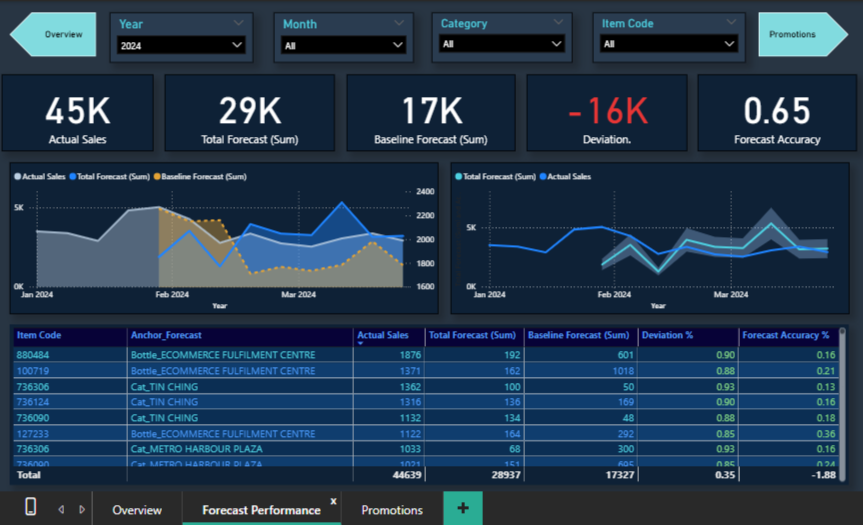

The dashboard page shown, as its layout file describes it:
{"tool":"powerbi","page":{"name":"Forecast Performance","canvas":[1280,720],"ordinal":1},"visuals":[{"type":"slicer","fields":{"Values":["Main.Anchor_Forecast"]},"box":[642.9,16,207.4,73.6],"z":0},{"type":"slicer","fields":{"Values":["Main.Item Code"]},"box":[879.8,16,224.5,73.6],"z":1000},{"type":"slicer","fields":{"Values":["Main.time_line.Variation.Date Hierarchy.Month"]},"box":[411,16,206.1,73.6],"z":2000},{"type":"card","fields":{"Values":["Main.Total Forecast (Sum)"]},"box":[251.5,108,250.3,112.9],"z":3000},{"type":"card","fields":{"Values":["Main.Baseline Forecast (Sum)"]},"box":[519,108,247.9,112.9],"z":4000},{"type":"card","fields":{"Values":["Main.Deviation (TotalForecast - Actual)"]},"box":[782.8,108,235.6,112.9],"z":5000},{"type":"card","fields":{"Values":["Main.Forecast Accuracy"]},"box":[1034.4,108,234.4,112.9],"z":6000},{"type":"tableEx","fields":{"Values":["Main.Item Code","Main.Anchor_Forecast","Main.Actual Sales","Main.Total Forecast (Sum)","Main.Baseline Forecast (Sum)","Main.Deviation %","Main.Forecast Accuracy %"]},"box":[22.9,474.3,1232.9,235.7],"z":7000},{"type":"lineChart","fields":{"Category":["Main.time_line.Variation.Date Hierarchy.Year","Main.time_line.Variation.Date Hierarchy.Quarter","Main.time_line.Variation.Date Hierarchy.Month","Main.time_line.Variation.Date Hierarchy.Day"],"Y":["Main.Total Forecast (Sum)","Main.Actual Sales"]},"box":[671.4,237.1,585.7,222.9],"z":8000},{"type":"card","fields":{"Values":["Main.Actual Sales"]},"box":[11,108,223.3,112.9],"z":9000},{"type":"areaChart","fields":{"Y":["Main.Actual Sales","Main.Total Forecast (Sum)"],"Category":["Main.time_line.Variation.Date Hierarchy.Year","Main.time_line.Variation.Date Hierarchy.Quarter","Main.time_line.Variation.Date Hierarchy.Month","Main.time_line.Variation.Date Hierarchy.Day"],"Y2":["Main.Baseline Forecast (Sum)"]},"box":[22.9,237.1,630,222.9],"z":10000},{"type":"slicer","fields":{"Values":["Main.time_line.Variation.Date Hierarchy.Year"]},"box":[170.6,16,211,73.6],"z":11000},{"type":"pageNavigator","box":[1123.9,16,132.5,65],"z":12000},{"type":"pageNavigator","box":[23.3,16,127.6,65],"z":13000}]}

Visuals, with their boxes on the page's 1280x720 design canvas (x1, y1, x2, y2). These are canvas units, not pixel positions in the 863x525 screenshot, which may show the page scaled, cropped or inside an application window:
slicer - Main.Anchor_Forecast: left=643, top=16, right=850, bottom=90
slicer - Main.Item Code: left=880, top=16, right=1104, bottom=90
slicer - Main.time_line.Variation.Date Hierarchy.Month: left=411, top=16, right=617, bottom=90
card - Main.Total Forecast (Sum): left=252, top=108, right=502, bottom=221
card - Main.Baseline Forecast (Sum): left=519, top=108, right=767, bottom=221
card - Main.Deviation (TotalForecast - Actual): left=783, top=108, right=1018, bottom=221
card - Main.Forecast Accuracy: left=1034, top=108, right=1269, bottom=221
tableEx - Main.Item Code x Main.Anchor_Forecast: left=23, top=474, right=1256, bottom=710
lineChart - Main.time_line.Variation.Date Hierarchy.Year x Main.time_line.Variation.Date Hierarchy.Quarter: left=671, top=237, right=1257, bottom=460
card - Main.Actual Sales: left=11, top=108, right=234, bottom=221
areaChart - Main.Actual Sales x Main.Total Forecast (Sum): left=23, top=237, right=653, bottom=460
slicer - Main.time_line.Variation.Date Hierarchy.Year: left=171, top=16, right=382, bottom=90
pageNavigator: left=1124, top=16, right=1256, bottom=81
pageNavigator: left=23, top=16, right=151, bottom=81
